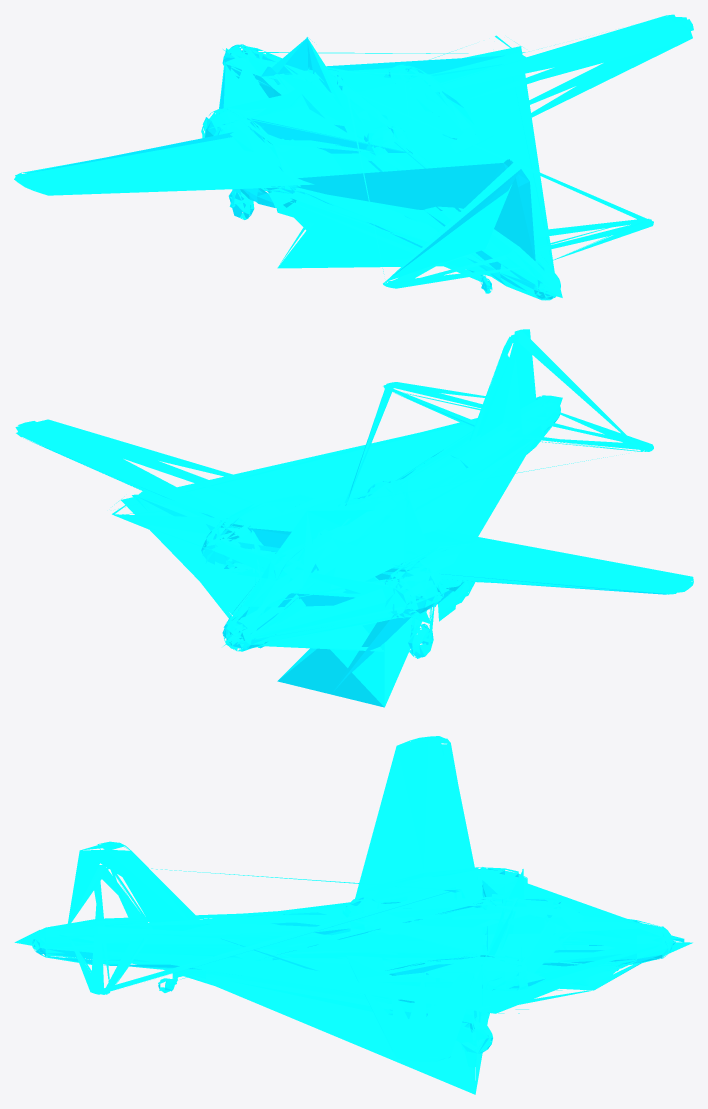
The model's file is PJAB013.glb.
3 renders of one model, top to bottom at view 1: azimuth 30°, elevation 25°; view 2: azimuth 150°, elevation 25°; view 3: azimuth 270°, elevation 25°, orthographic.
Parts seen in each view (by area): view 1: misc; view 2: misc; view 3: misc.
Part boxes in pixels (<box>): misc: <box>14,14,693,300</box>; misc: <box>15,329,693,707</box>; misc: <box>14,736,692,1094</box>.
Size of the model in its own units: 1.5 by 0.4868 by 1.32.
